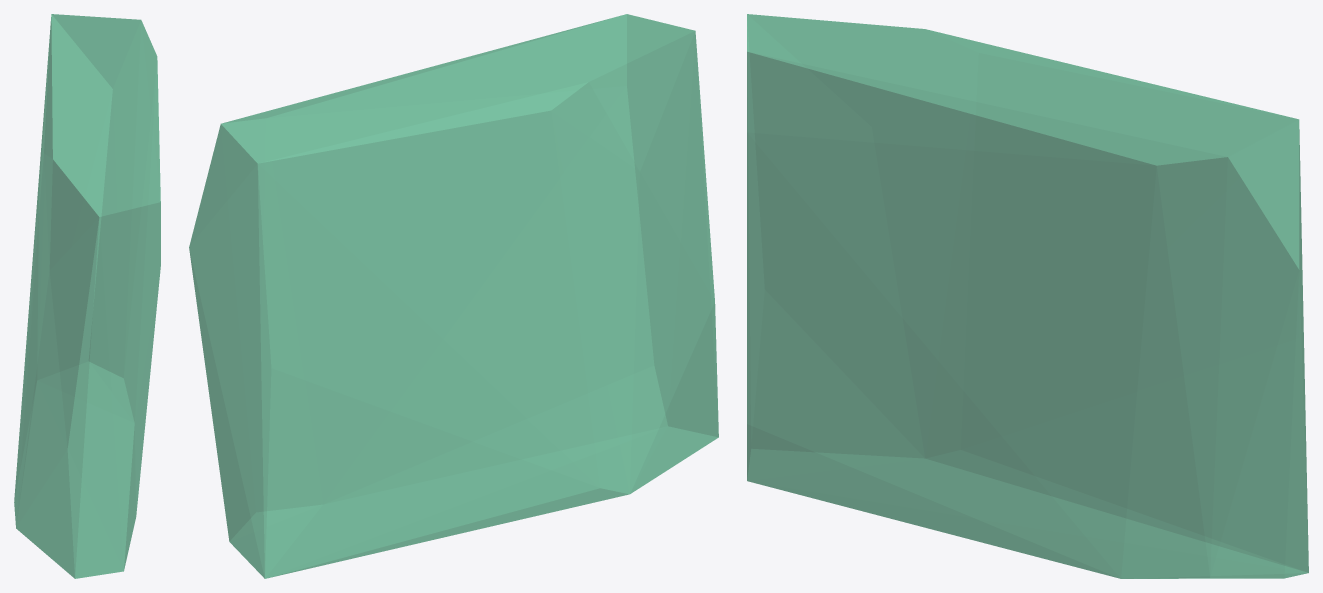
3 renders of one model, left to right at view 1: azimuth 30°, elevation 25°; view 2: azimuth 150°, elevation 25°; view 3: azimuth 270°, elevation 25°, orthographic. The views are drawn at different scales.
Visible parts, largest first — view 1: Shape_IndexedFaceSet.032_Shape_IndexedFaceSet.4851; view 2: Shape_IndexedFaceSet.032_Shape_IndexedFaceSet.4851; view 3: Shape_IndexedFaceSet.032_Shape_IndexedFaceSet.4851.
Part boxes in pixels (x1,y1,x2,y2): Shape_IndexedFaceSet.032_Shape_IndexedFaceSet.4851: (14,14,160,578); Shape_IndexedFaceSet.032_Shape_IndexedFaceSet.4851: (189,14,718,578); Shape_IndexedFaceSet.032_Shape_IndexedFaceSet.4851: (747,14,1308,578).
Size of the model in its own units: 0.1917 by 0.2601 by 0.2879.
